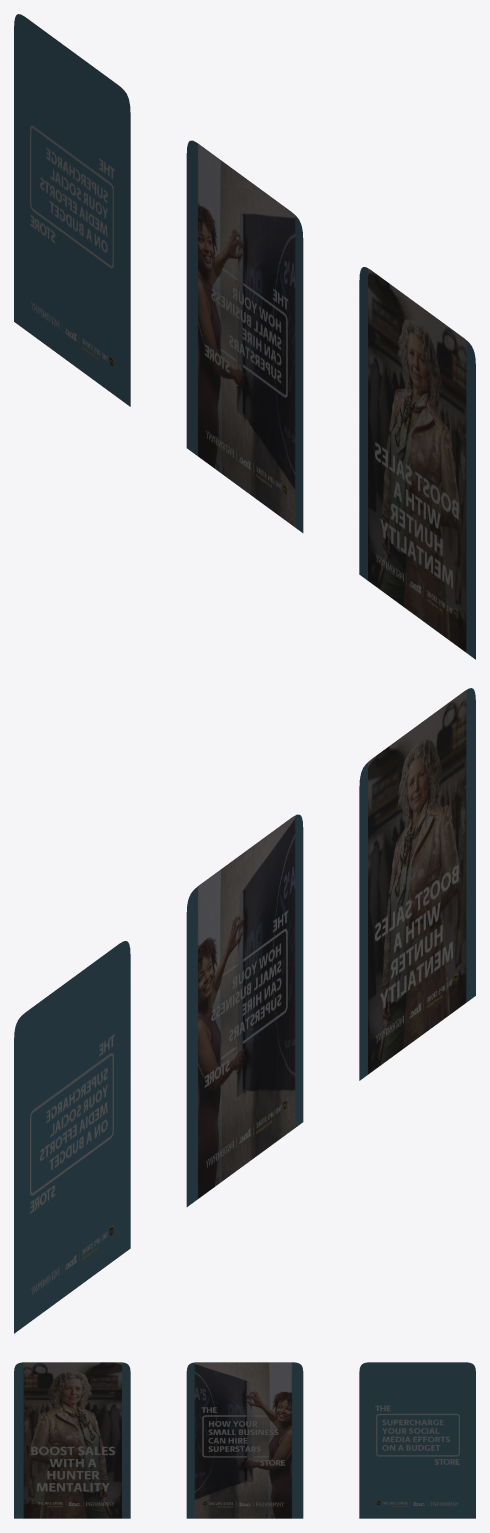
Rendered from UPS_Floor2_Articles.glb.
3 views of the same model, one above another, from view 1: azimuth 30°, elevation 25°; view 2: azimuth 150°, elevation 25°; view 3: azimuth 270°, elevation 25° (orthographic). The views are drawn at different scales.
Parts seen in each view (by area): view 1: Box1126, Box1124, Box1128; view 2: Box1126, Box1128, Box1124; view 3: Box1126, Box1124, Box1128.
Boxes of the visible parts, <box> form: Box1126: <box>186,140,303,532</box>; Box1124: <box>14,14,130,406</box>; Box1128: <box>359,267,475,659</box>; Box1126: <box>186,814,303,1206</box>; Box1128: <box>359,688,475,1080</box>; Box1124: <box>14,941,130,1333</box>; Box1126: <box>186,1362,303,1518</box>; Box1124: <box>359,1362,475,1518</box>; Box1128: <box>14,1362,130,1518</box>.
Bounding box in the file's own units: 7.99e-07 × 4 × 10.7.
1 material, 1 textured.
